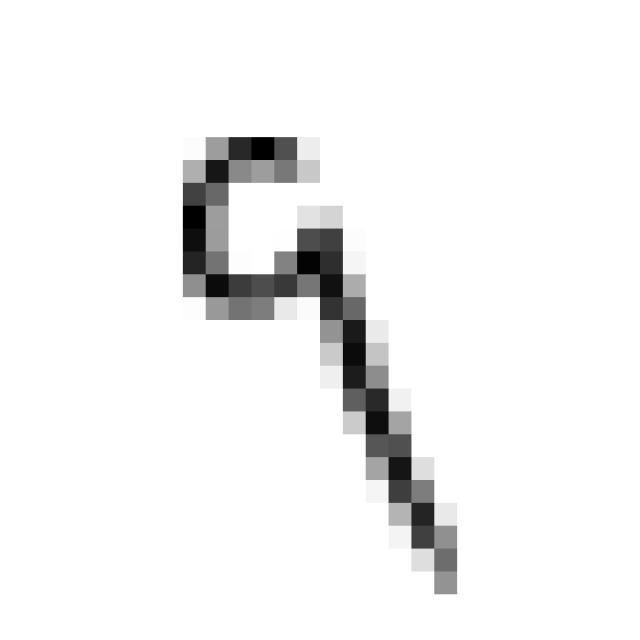9 -nine-: (155, 98, 478, 612)
